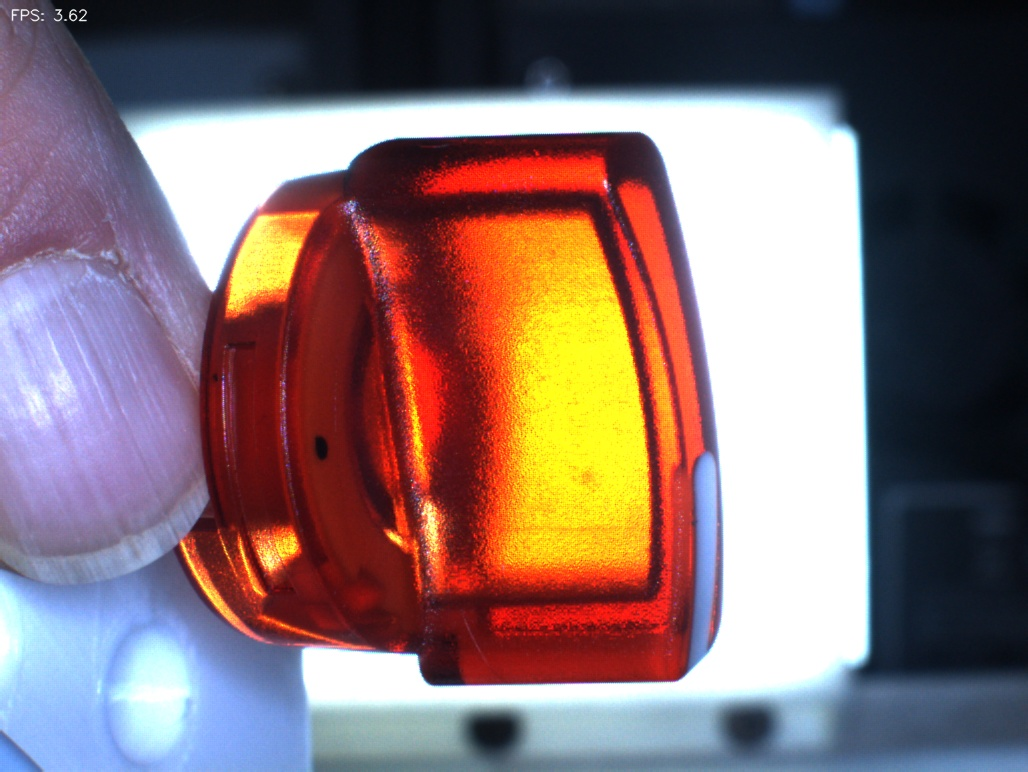PointNoir: (282, 400, 365, 497)
